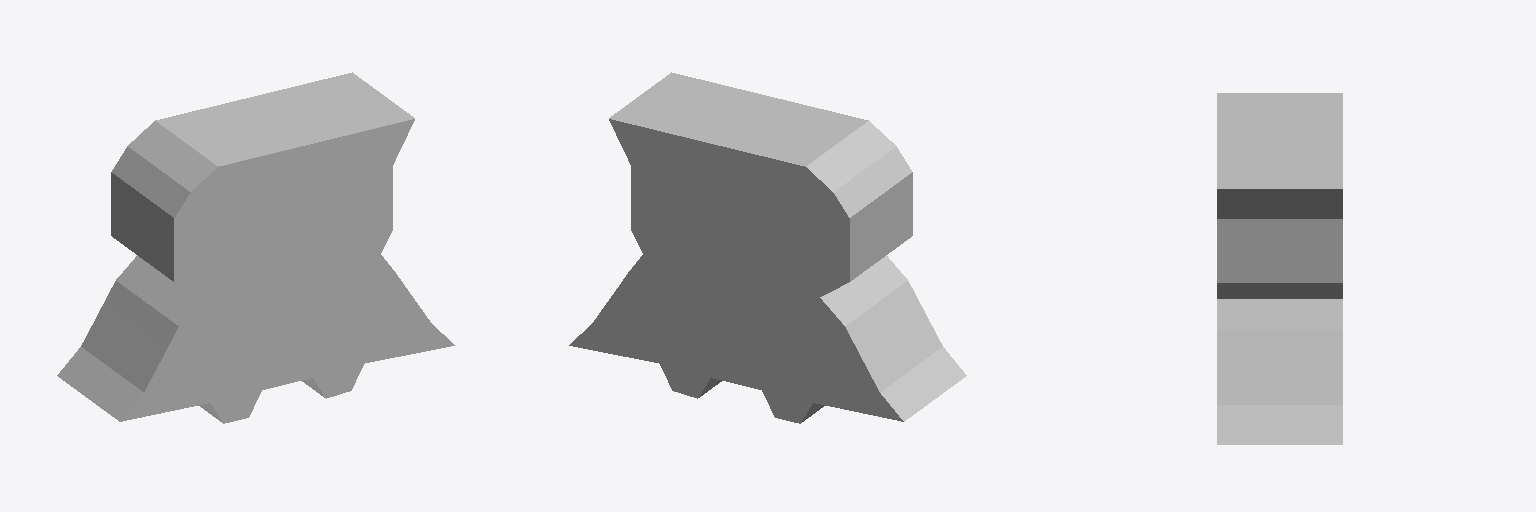
The model's file is Worker.obj.
The picture shows the model from 3 angles: view 1: azimuth 30°, elevation 25°; view 2: azimuth 150°, elevation 25°; view 3: azimuth 270°, elevation 25°; orthographic projection.
Parts seen in each view (by area): view 1: Grid; view 2: Grid; view 3: Grid.
Part boxes in pixels (x1,y1,x2,y2): Grid: (57,72,454,423); Grid: (569,72,966,423); Grid: (1217,93,1342,444).
Size of the model in its own units: 1.45 by 1.07 by 0.4747.